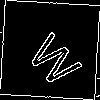W: (25, 25, 90, 90)
